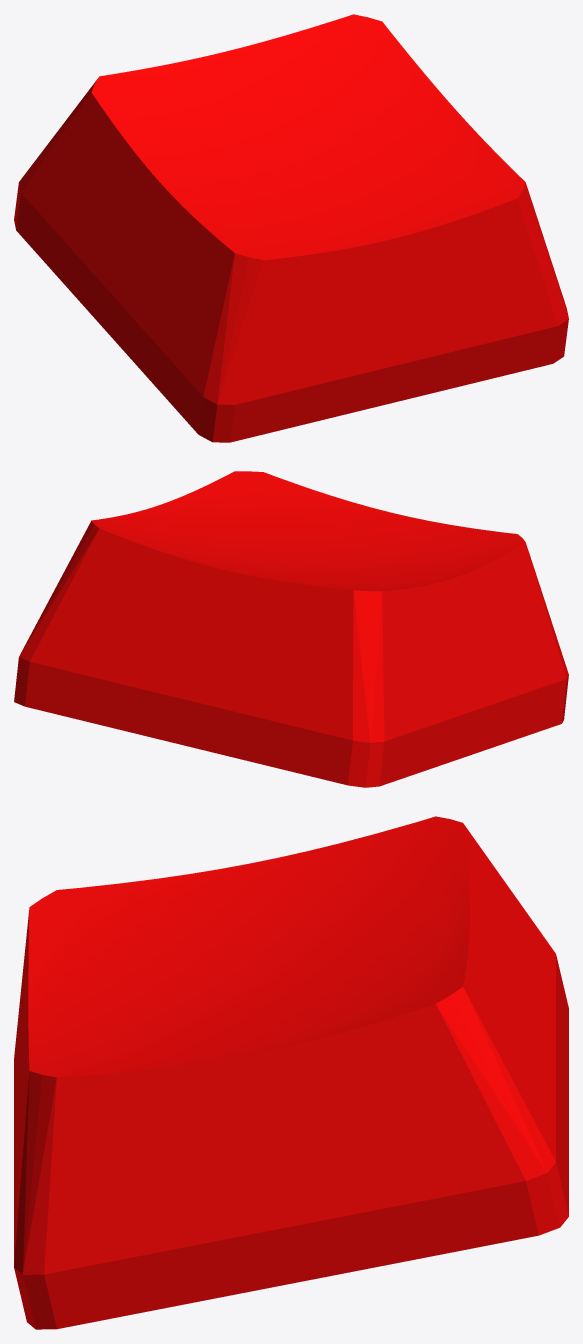
File: original-40.obj
3 renders of one model, top to bottom at view 1: azimuth 30°, elevation 25°; view 2: azimuth 150°, elevation 25°; view 3: azimuth 270°, elevation 25°, orthographic. The views are drawn at different scales.
Parts seen in each view (by area): view 1: Group41/mesh115/mesh115-geometry#mesh115-geometry; view 2: Group41/mesh115/mesh115-geometry#mesh115-geometry; view 3: Group41/mesh115/mesh115-geometry#mesh115-geometry.
Part boxes in pixels (left/top/right/bottom): Group41/mesh115/mesh115-geometry#mesh115-geometry: left=14, top=14, right=568, bottom=442; Group41/mesh115/mesh115-geometry#mesh115-geometry: left=14, top=471, right=568, bottom=787; Group41/mesh115/mesh115-geometry#mesh115-geometry: left=14, top=816, right=568, bottom=1329.
Size of the model in its own units: 0.0793 by 0.0494 by 0.0794.
